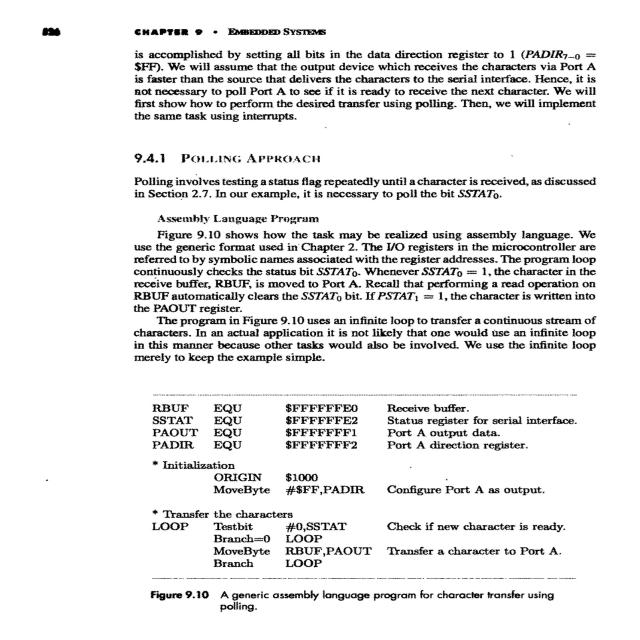diagram: (65, 388, 640, 628)
